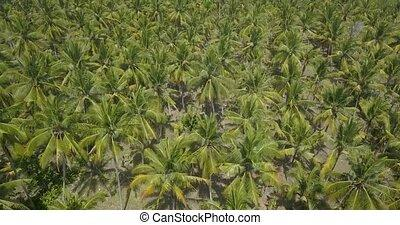coconut_tree: (131, 142, 216, 200), (21, 105, 85, 171), (331, 153, 399, 209), (223, 133, 282, 196), (75, 98, 135, 154), (5, 58, 66, 103), (235, 68, 284, 110), (316, 82, 355, 131), (191, 62, 233, 105), (267, 29, 305, 72)
